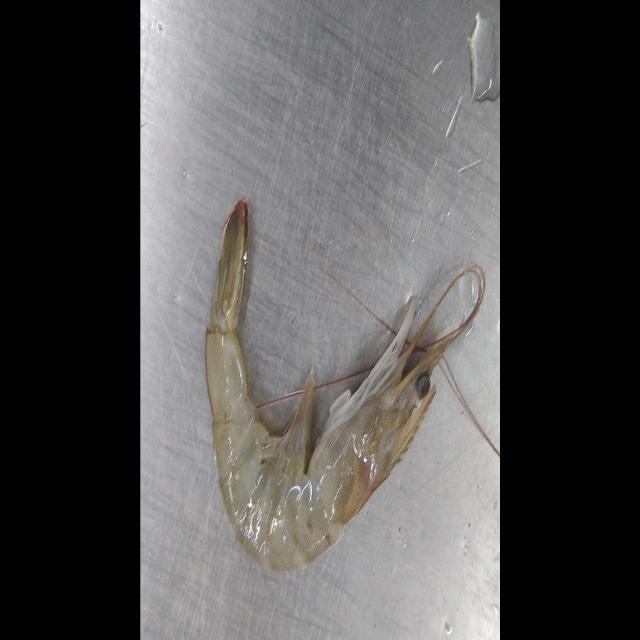shrimp: (205, 194, 487, 576)
